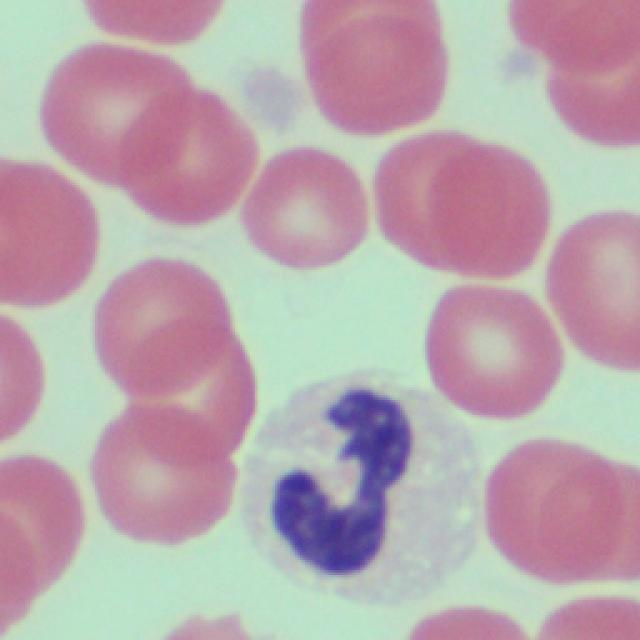RBC: (90, 249, 254, 504), (39, 36, 252, 195), (366, 126, 547, 286), (482, 430, 640, 588), (108, 58, 249, 230), (298, 0, 451, 141), (85, 405, 231, 552), (418, 282, 560, 426), (234, 142, 368, 278), (515, 0, 635, 142), (0, 157, 92, 320), (546, 209, 640, 368), (0, 445, 73, 640), (76, 0, 229, 47), (0, 309, 43, 443)
WBC: (270, 360, 414, 598)
